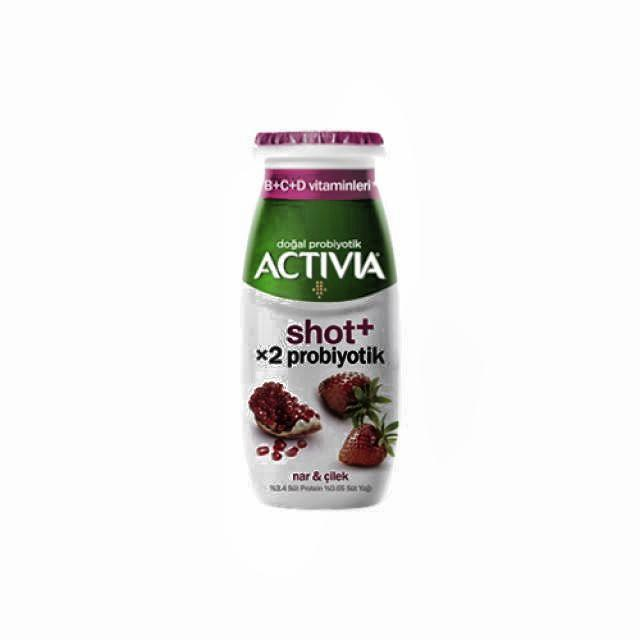plastic: (237, 128, 402, 514)
